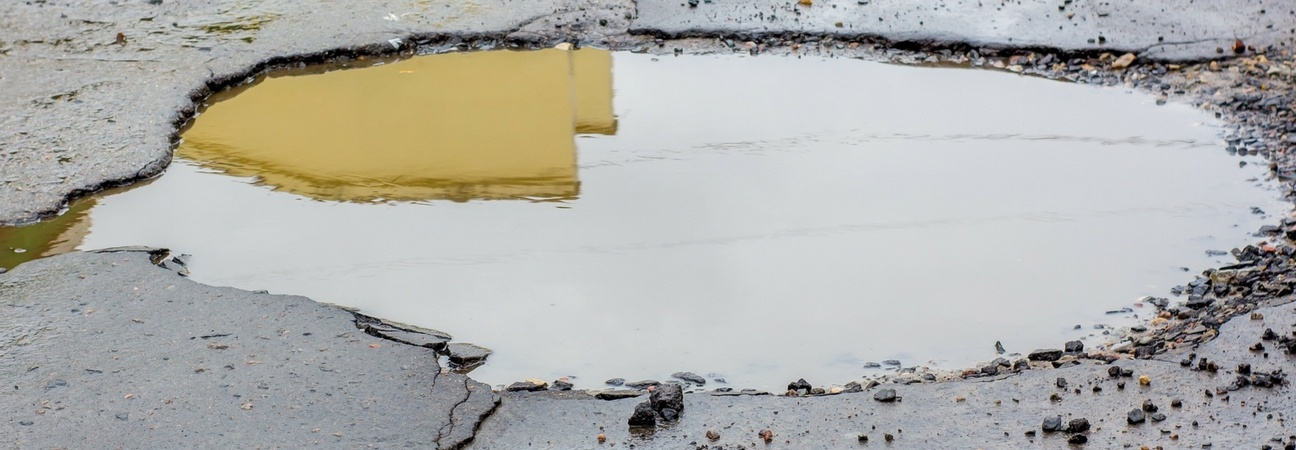pothole: (81, 27, 1287, 376)
